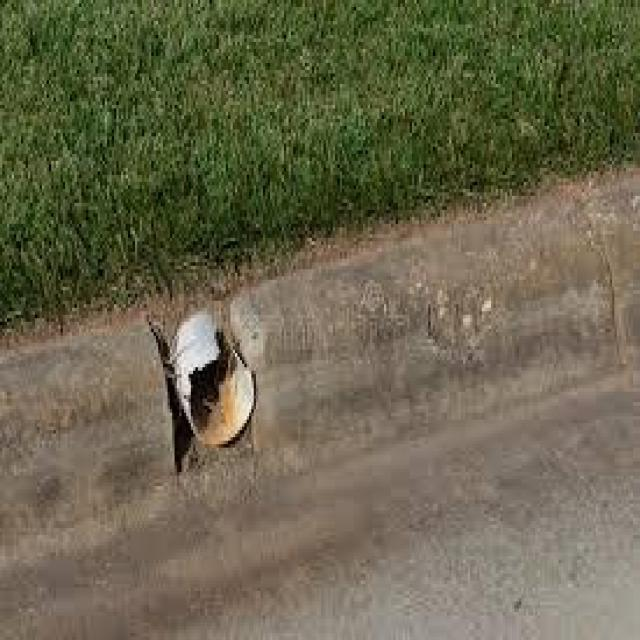curb: (235, 169, 640, 469), (1, 285, 237, 522)
